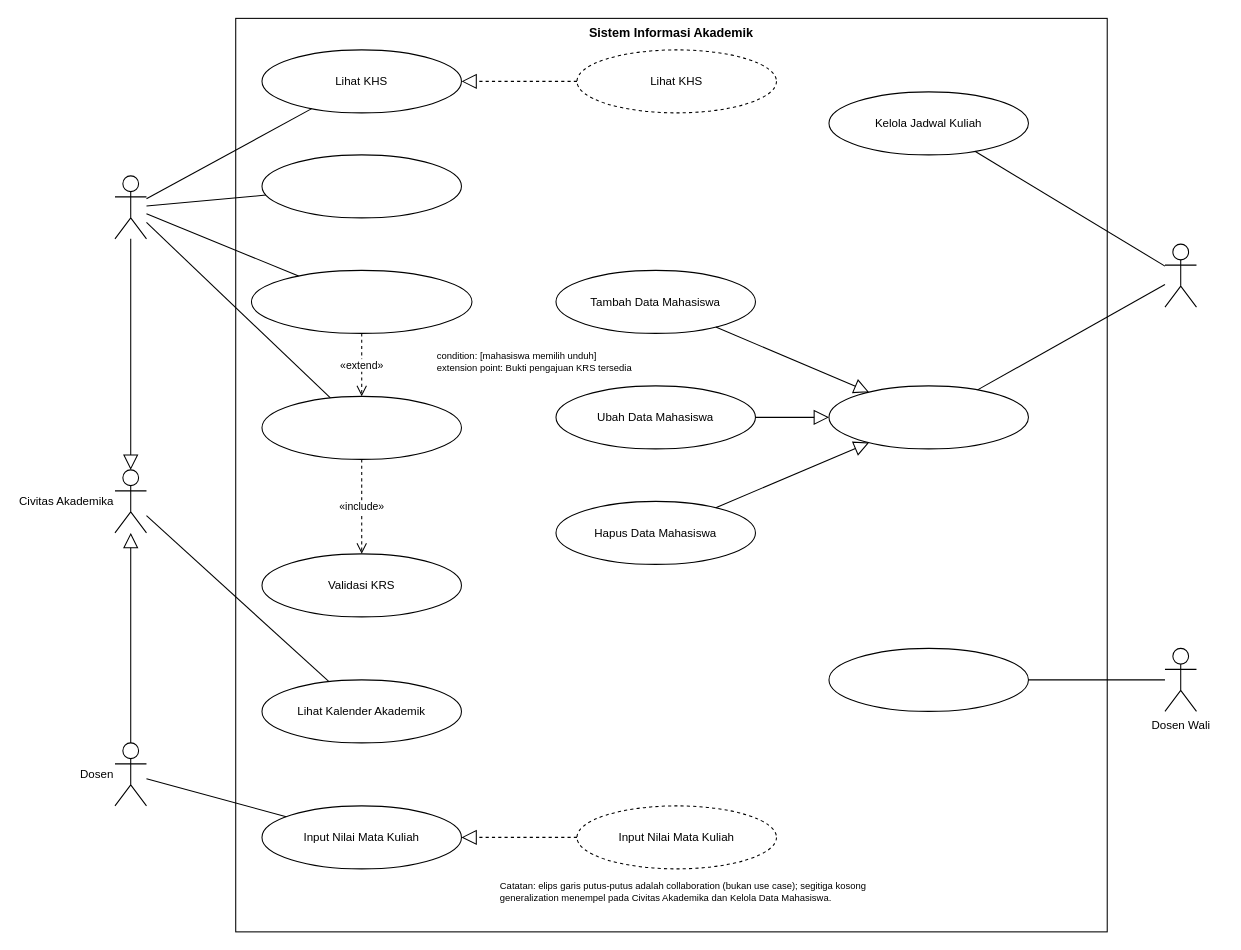
Some shapes in this 1241 by 950 pixel diagram are drawn without their labels. The centre of each missing label's shape, as x and y in pixels:
"Admin Akademik" belongs at [1180,275].
"Ajukan KRS" belongs at [361,427].
"Kelola Data Mahasiswa" belongs at [928,417].
"Lihat Jadwal Kuliah" belongs at [361,186].
"Mahasiswa" belongs at [130,207].
"Proses Keputusan KRS" belongs at [928,679].
"Unduh Bukti Pengajuan KRS" belongs at [361,301].
